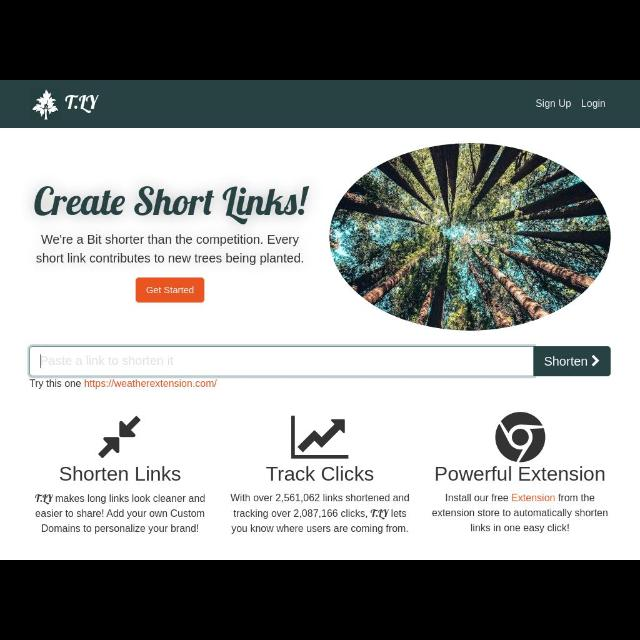icon: (290, 414, 350, 460), (98, 416, 142, 458), (592, 354, 600, 366)
image: (326, 142, 614, 332), (493, 411, 547, 464), (32, 89, 102, 121)
input: (28, 346, 534, 378)
text: (33, 182, 313, 228), (34, 234, 306, 268), (228, 493, 412, 535), (430, 494, 612, 534), (33, 492, 205, 534), (436, 465, 606, 483), (60, 466, 182, 484), (266, 465, 374, 483), (28, 379, 220, 389), (41, 354, 178, 368), (544, 356, 588, 366), (536, 98, 572, 110), (147, 286, 196, 294), (580, 99, 604, 111)
textbutton: (534, 347, 612, 378), (135, 276, 205, 304)
toolbar: (1, 81, 639, 127)
